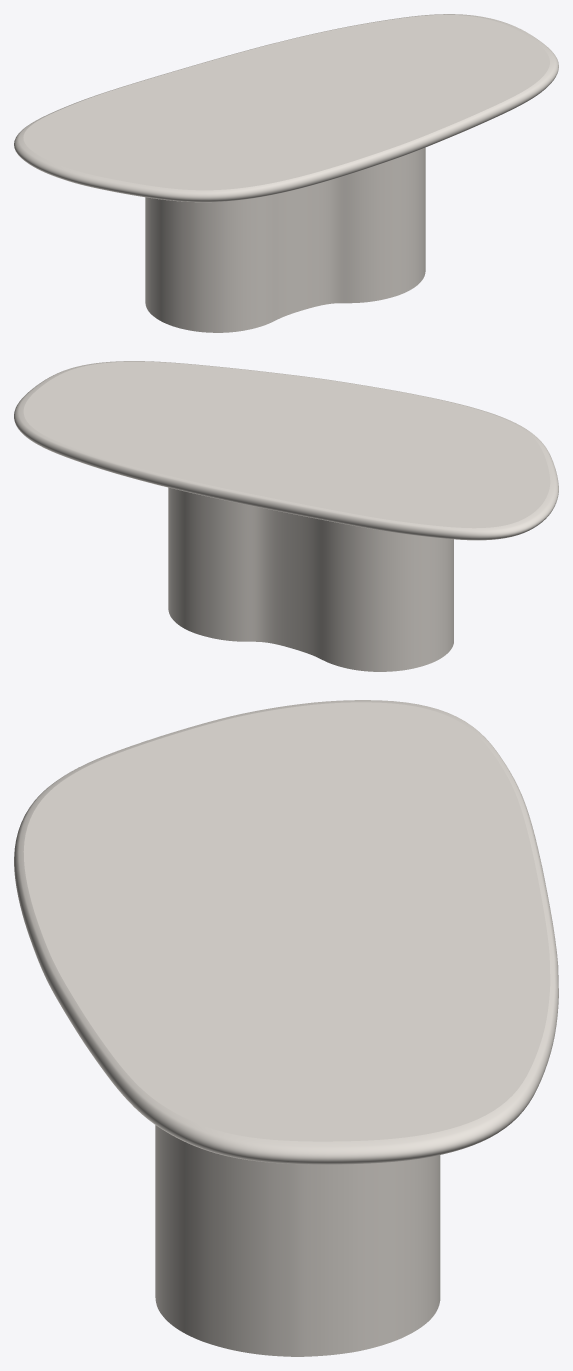
Rendered from pearlwhite_leaf2_round_riverwave.glb.
3 renders of one model, top to bottom at view 1: azimuth 30°, elevation 25°; view 2: azimuth 150°, elevation 25°; view 3: azimuth 270°, elevation 25°, orthographic. The views are drawn at different scales.
Parts seen in each view (by area): view 1: round_leaf2, riverwave; view 2: round_leaf2, riverwave; view 3: round_leaf2, riverwave.
Boxes of the visible parts, bbox=[...] form: round_leaf2: bbox=[14, 14, 558, 202]; riverwave: bbox=[145, 147, 425, 332]; round_leaf2: bbox=[14, 361, 558, 540]; riverwave: bbox=[168, 487, 453, 671]; round_leaf2: bbox=[14, 700, 558, 1164]; riverwave: bbox=[155, 1125, 440, 1356].
Bounding box in the file's own units: 7.5 × 2.52 × 3.8.
1 material, 1 textured.
